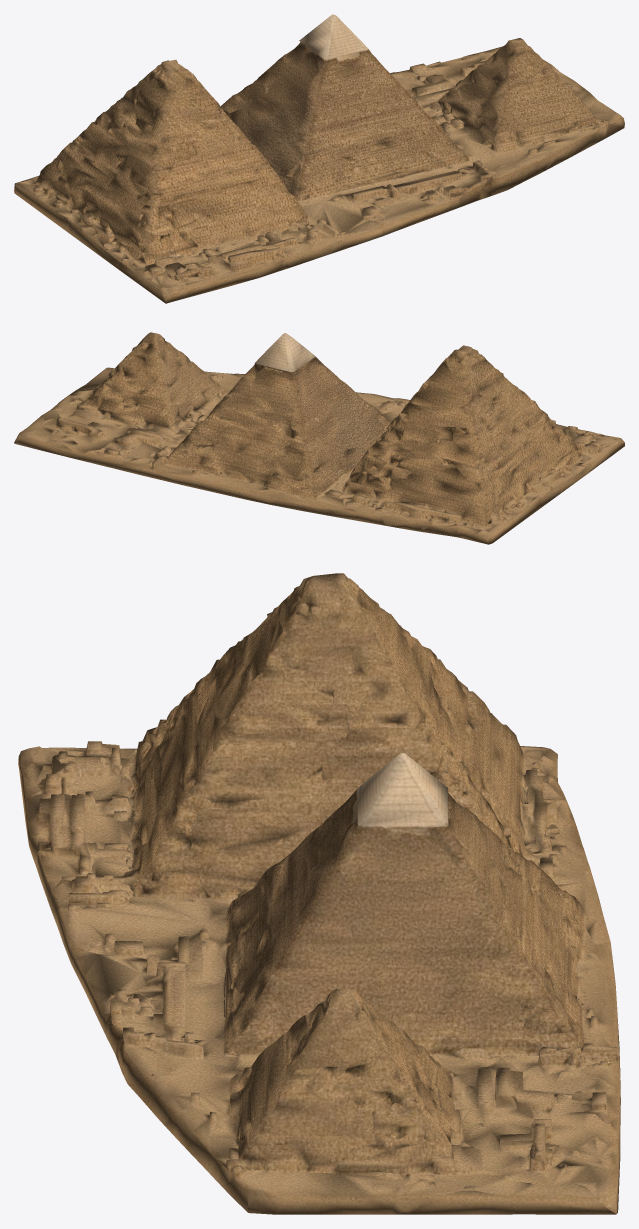
Rendered from pyramids.glb.
3 renders of one model, top to bottom at view 1: azimuth 30°, elevation 25°; view 2: azimuth 150°, elevation 25°; view 3: azimuth 270°, elevation 25°, orthographic. The views are drawn at different scales.
Bounding box in the file's own units: 1.9 × 0.5269 × 1.08.
Materials: 1 (1 with a texture image).
